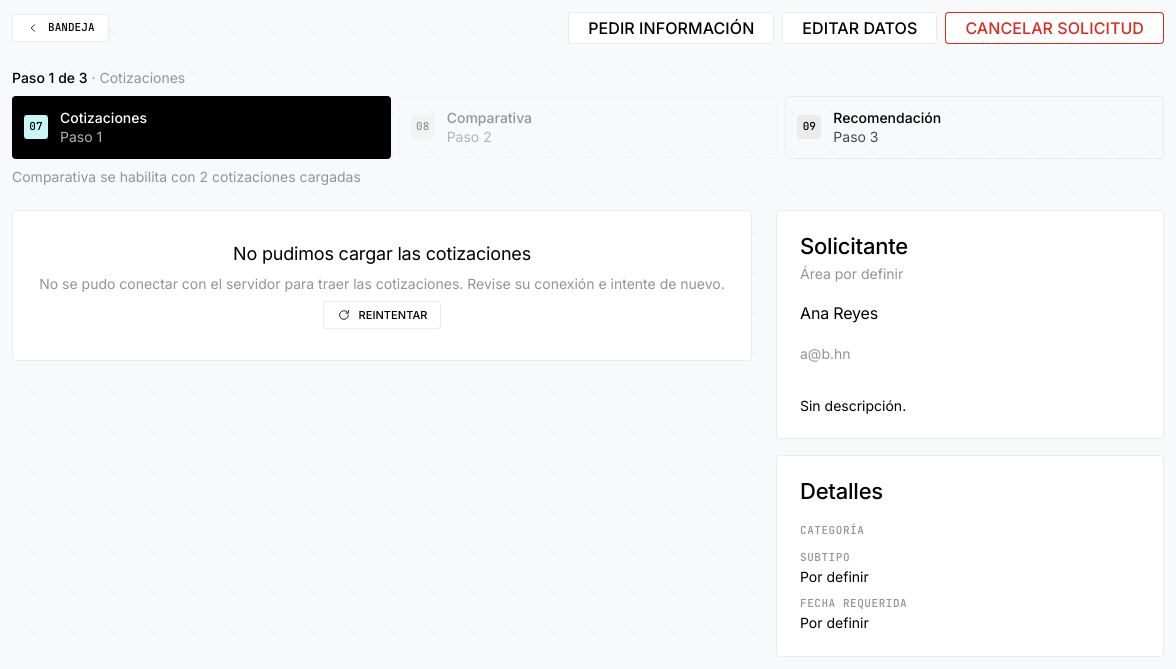
Test: DetalleSolicitud · error de carga › P1-5 · un fallo al listar cotizaciones no se ve como una lista vacía
Expected: the text "No pudimos cargar las cotizaciones" is shown, [233,242,531,266]
Click the button "Reintentar": (382, 315) [322,301,441,329]
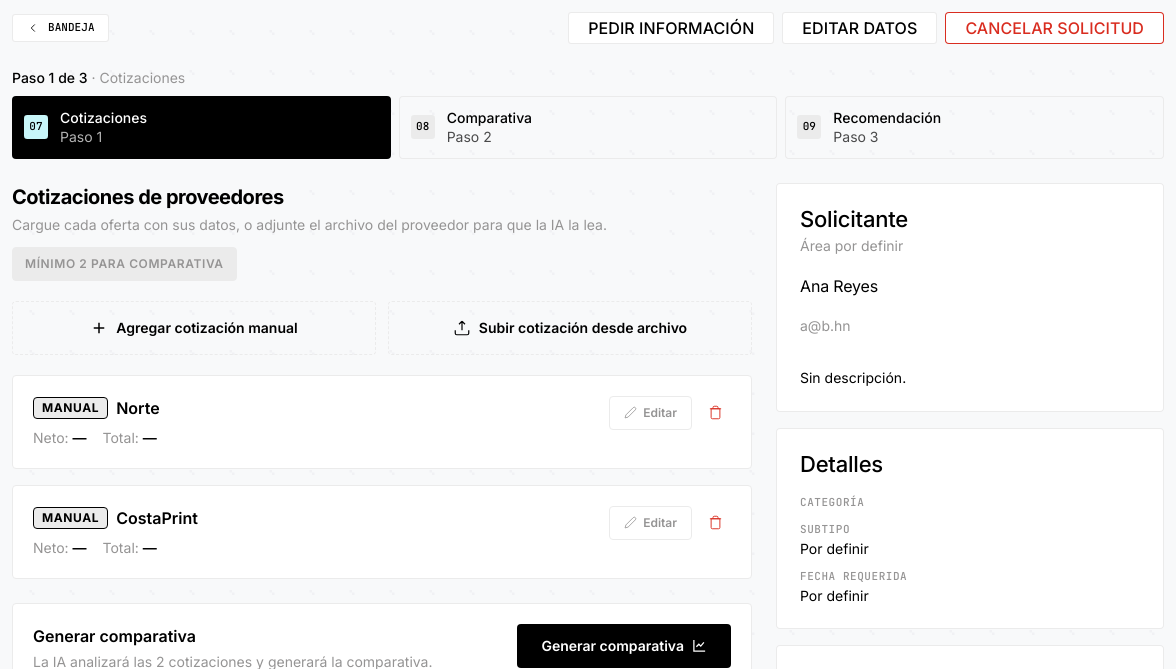
Expected: the text "Norte" is shown, [116,396,160,420]
Expected: the text "No pudimos cargar las cotizaciones" is gone
